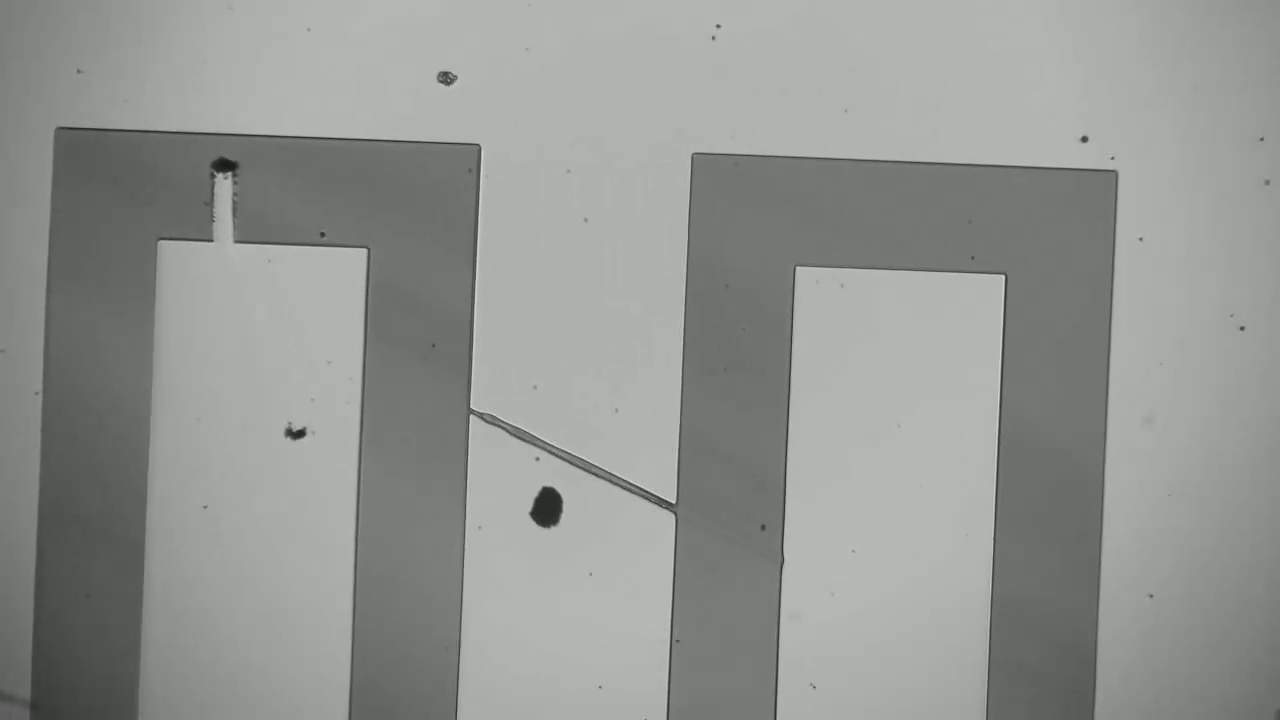Short_circuit: (189, 107, 265, 265)
